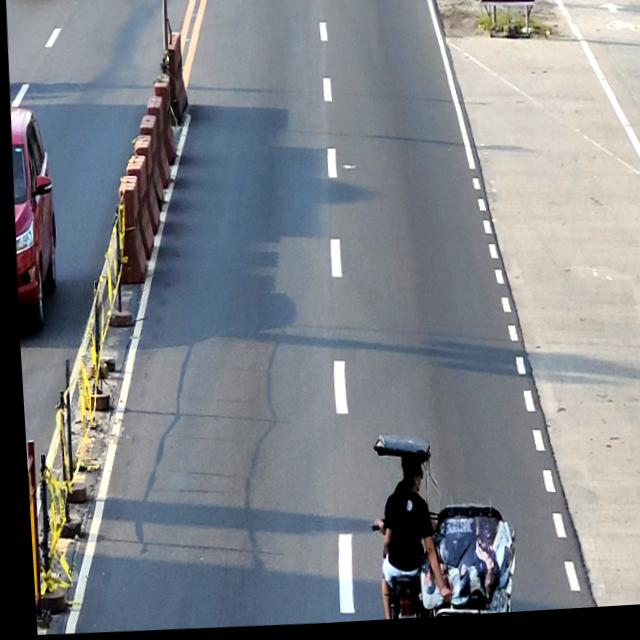Car: (5, 105, 59, 336)
Tricycle: (366, 430, 512, 624)
